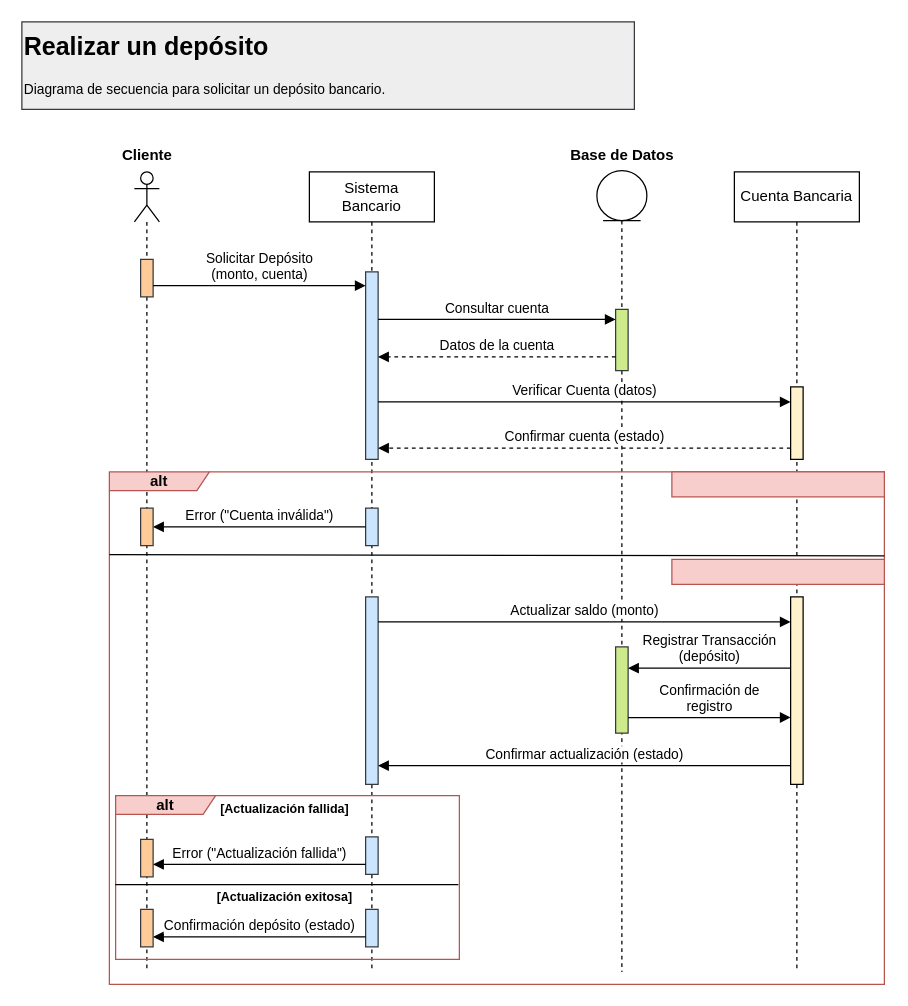
Image size: 908x1006. Some labels were removed from this diagram. Each missing label, with the centre of its shape:
"[Cuenta inválida]" belongs at point (777, 484).
"[Cuenta válida]" belongs at point (777, 571).
